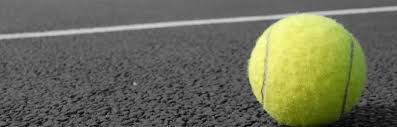tennis_ball: (247, 11, 369, 127)
